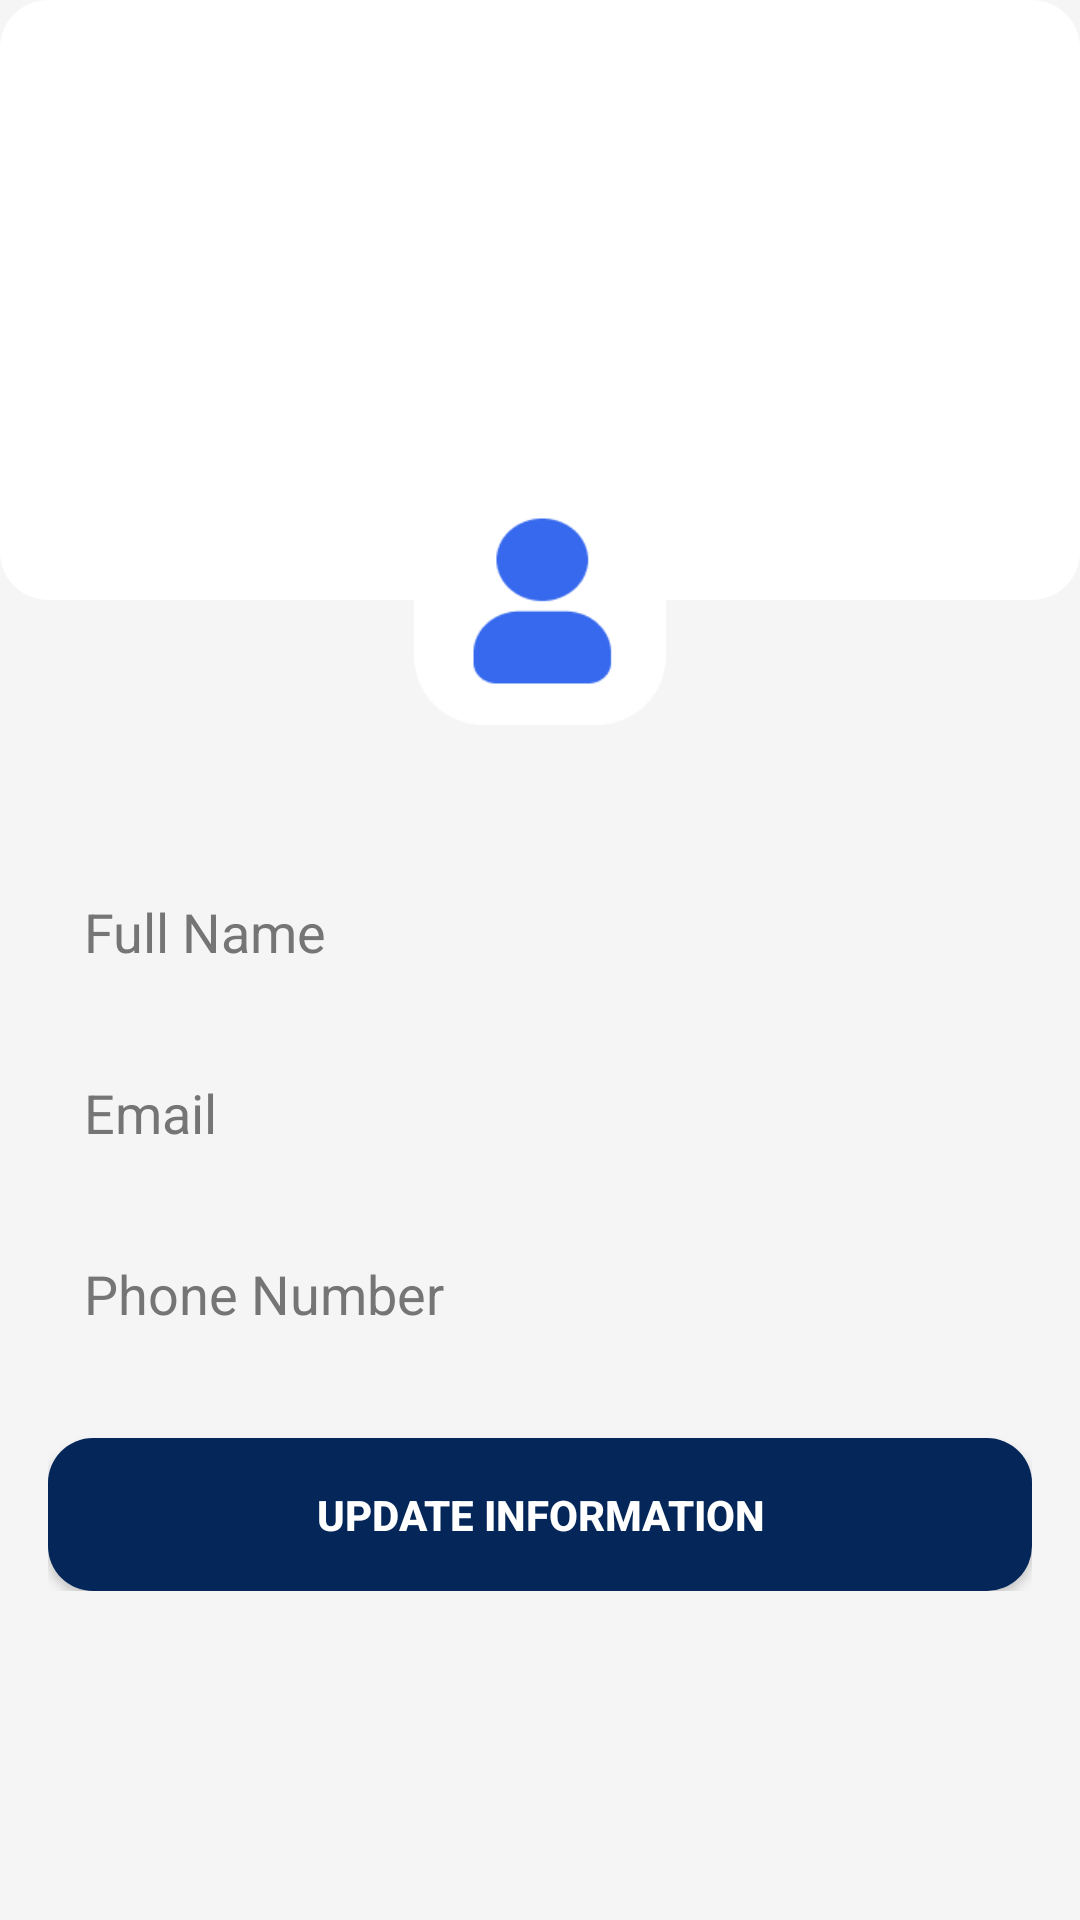

Where to tap for icons on this 1080x1920 app screen, as (x=x, y=y):
Profile Picture: (x=542, y=601)
